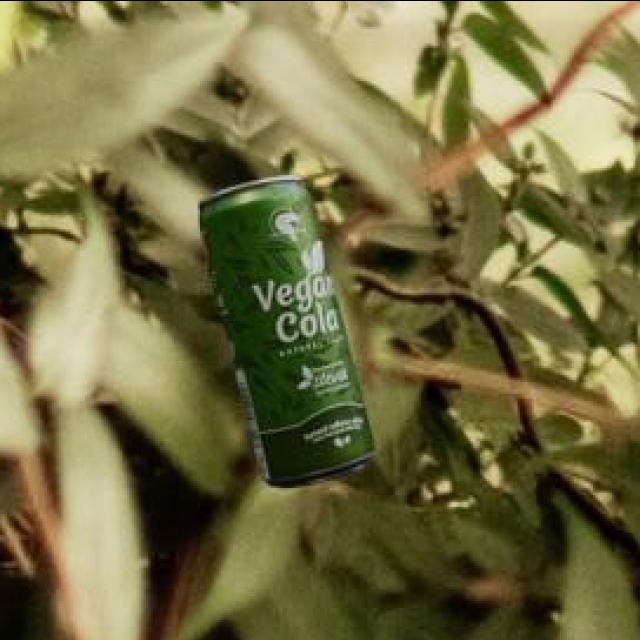logam: (204, 171, 378, 484)
